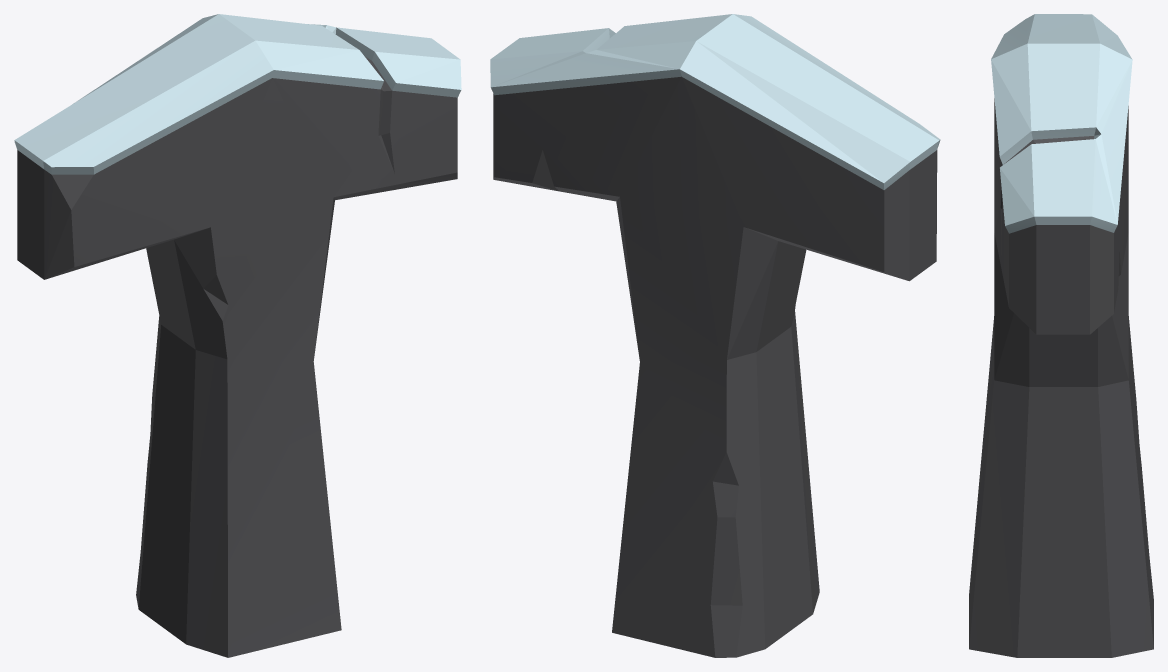
Rendered from Totem_Piedra01.glb.
3 renders of one model, left to right at view 1: azimuth 30°, elevation 25°; view 2: azimuth 150°, elevation 25°; view 3: azimuth 270°, elevation 25°, orthographic.
Visible parts, largest first — view 1: SM_Prop_Rock_Totem_01_Snow; view 2: SM_Prop_Rock_Totem_01_Snow; view 3: SM_Prop_Rock_Totem_01_Snow.
Boxes of the visible parts, x1=… form: SM_Prop_Rock_Totem_01_Snow: x1=14, y1=14, x2=461, y2=657; SM_Prop_Rock_Totem_01_Snow: x1=490, y1=14, x2=940, y2=657; SM_Prop_Rock_Totem_01_Snow: x1=969, y1=14, x2=1153, y2=657.
Size of the model in its own units: 2.59 by 3.45 by 1.
Materials: 1 (1 with a texture image).
